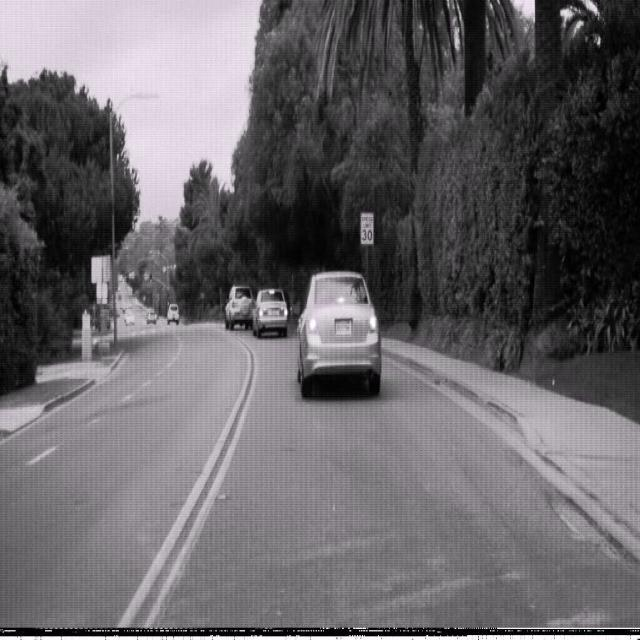speedLimit30: (360, 211, 374, 244)
